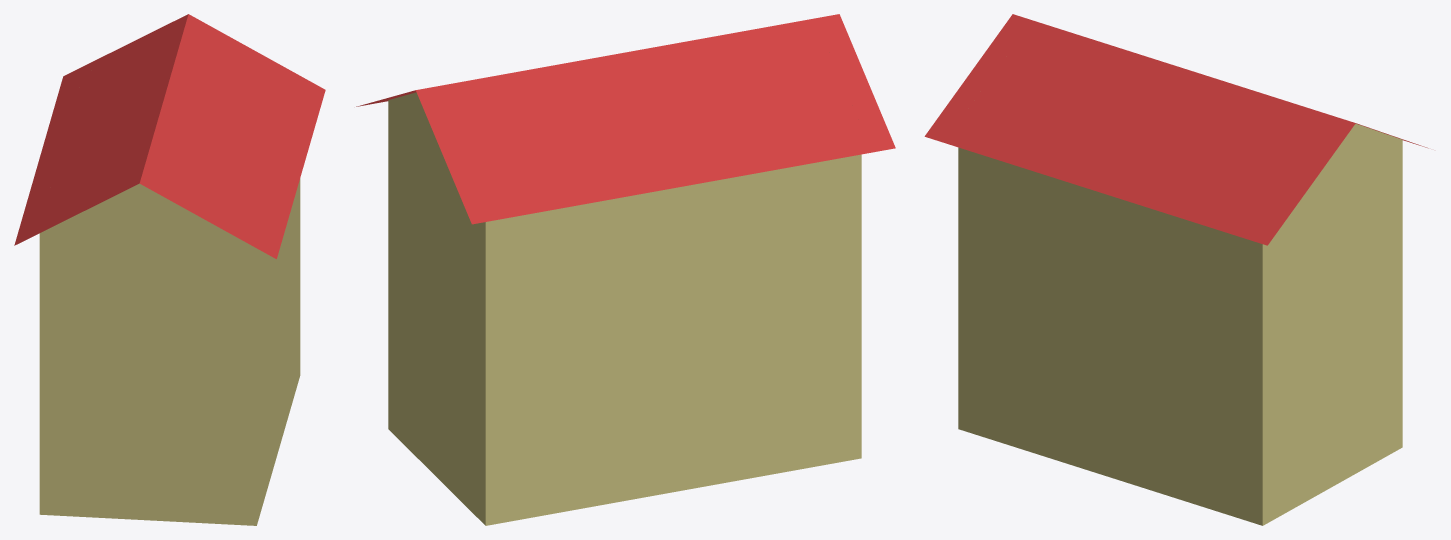
The picture shows the model from 3 angles, left to right: view 1: azimuth 30°, elevation 25°; view 2: azimuth 150°, elevation 25°; view 3: azimuth 270°, elevation 25°; orthographic projection. The views are drawn at different scales.
Size of the model in its own units: 9.94 by 10.54 by 8.35.
